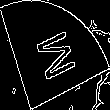M_W: (30, 24, 80, 86)
